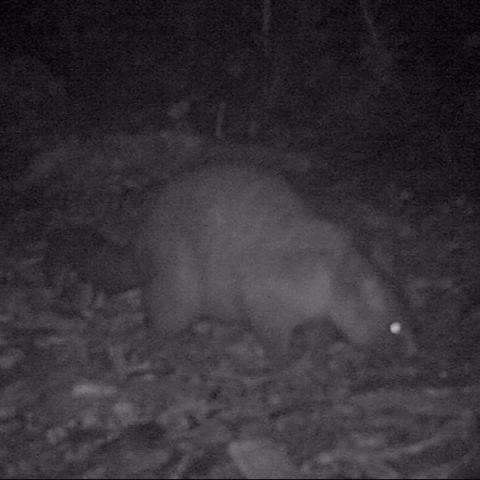small_animal: (39, 154, 419, 363)
